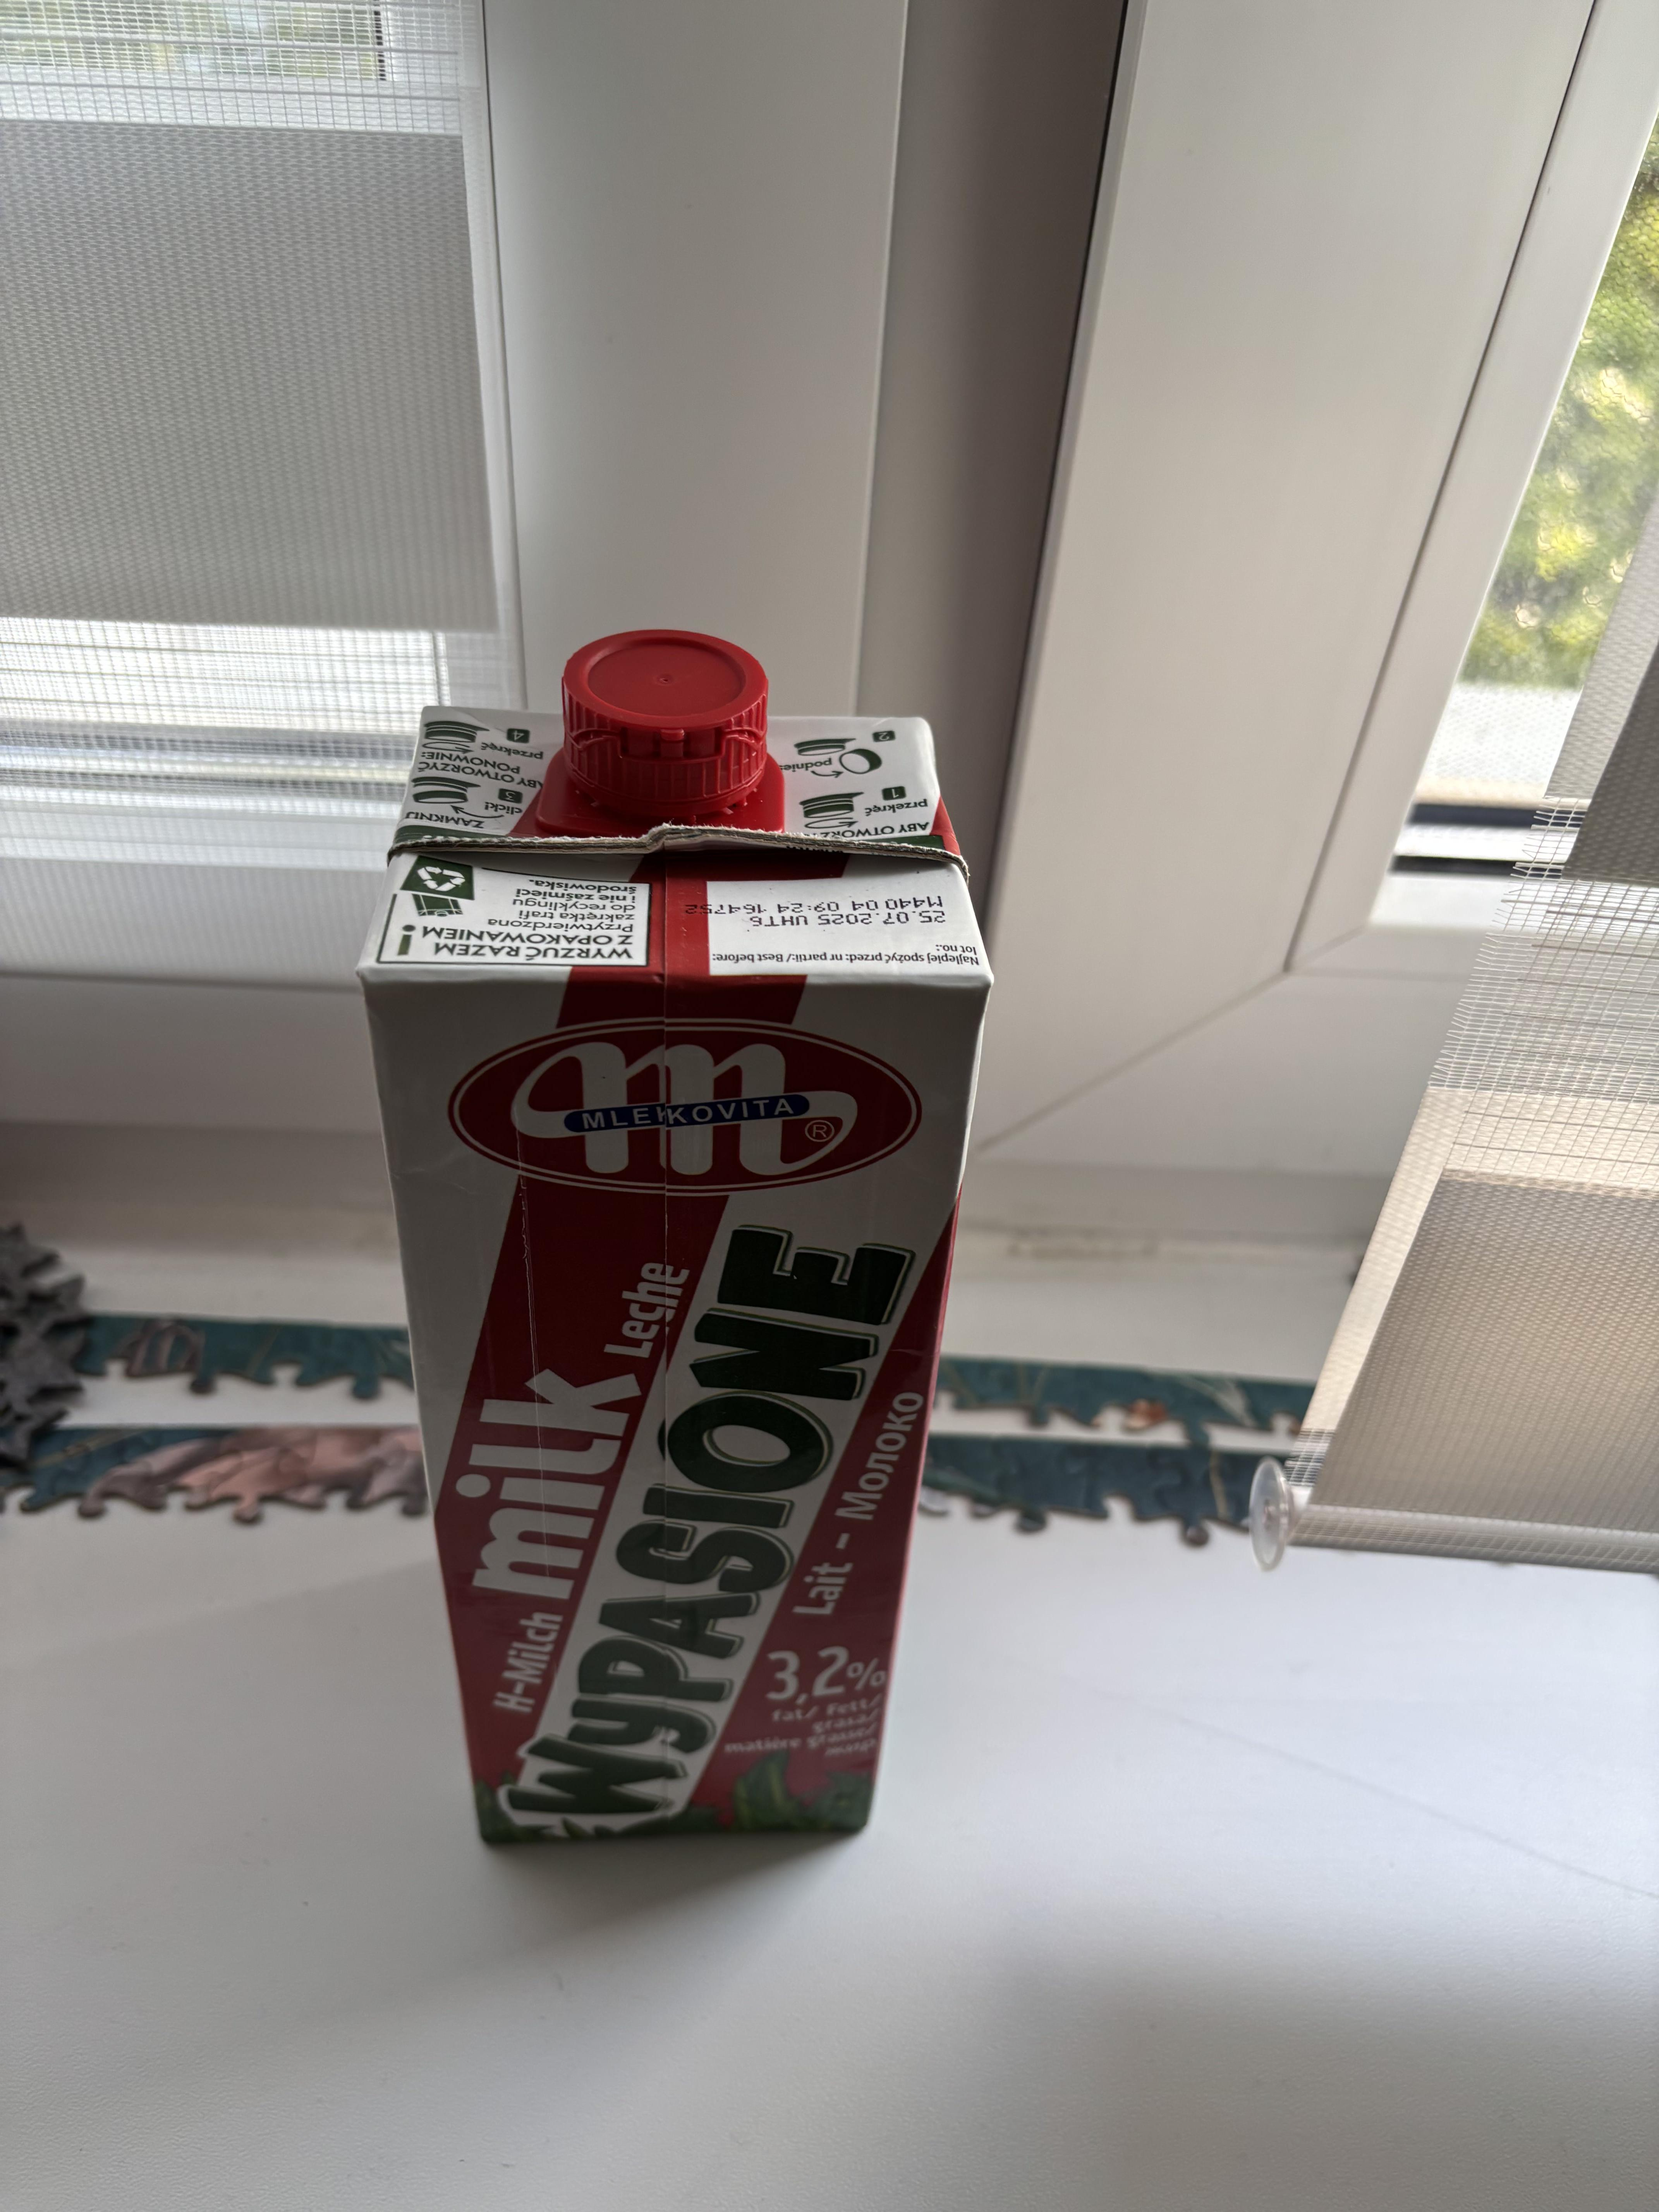Milk: (415, 716, 906, 1869)
